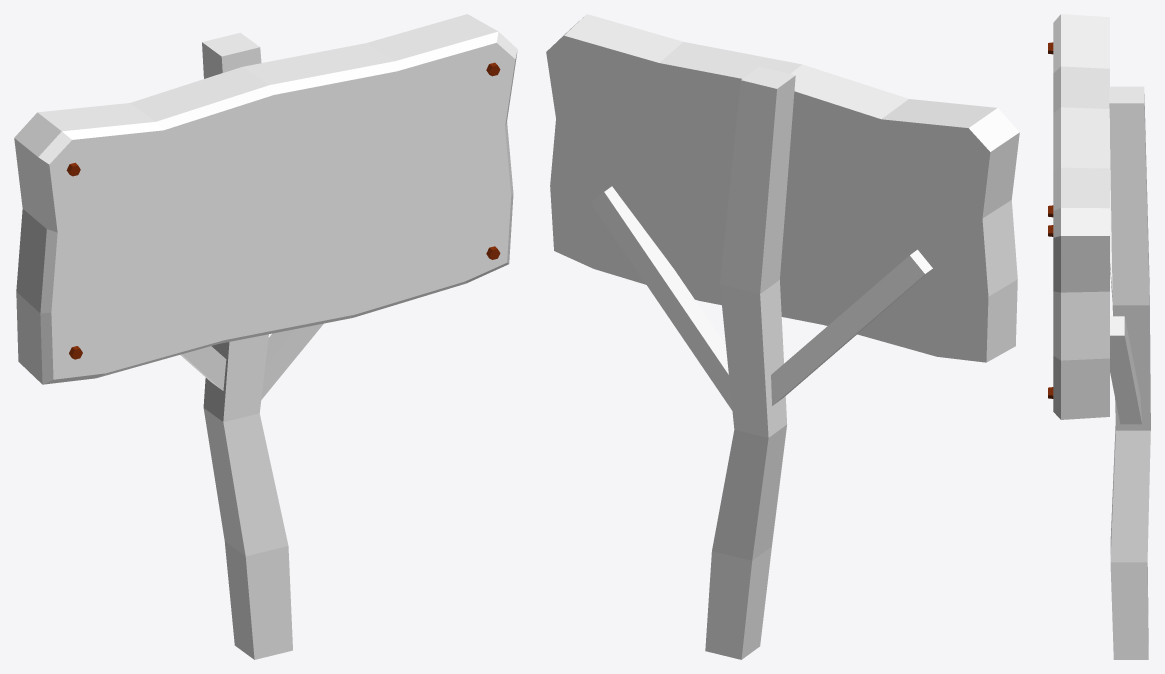
The model's file is WCC_Wooden_Sign_Single_Board.fbx.
3 views of the same model, side by side, from view 1: azimuth 30°, elevation 25°; view 2: azimuth 150°, elevation 25°; view 3: azimuth 270°, elevation 25° (orthographic). The views are drawn at different scales.
Parts seen in each view (by area): view 1: WCC_Sign_Board, WCC_Sign_Post; view 2: WCC_Sign_Board, WCC_Sign_Post; view 3: WCC_Sign_Board, WCC_Sign_Post.
Boxes of the visible parts, x1,y1,x2,y2 form: WCC_Sign_Board: (14, 14, 517, 384); WCC_Sign_Post: (180, 32, 323, 659); WCC_Sign_Board: (546, 14, 1019, 362); WCC_Sign_Post: (590, 66, 932, 659); WCC_Sign_Board: (1048, 14, 1109, 419); WCC_Sign_Post: (1109, 86, 1150, 659).
Size of the model in its own units: 224 by 47.1 by 274.
